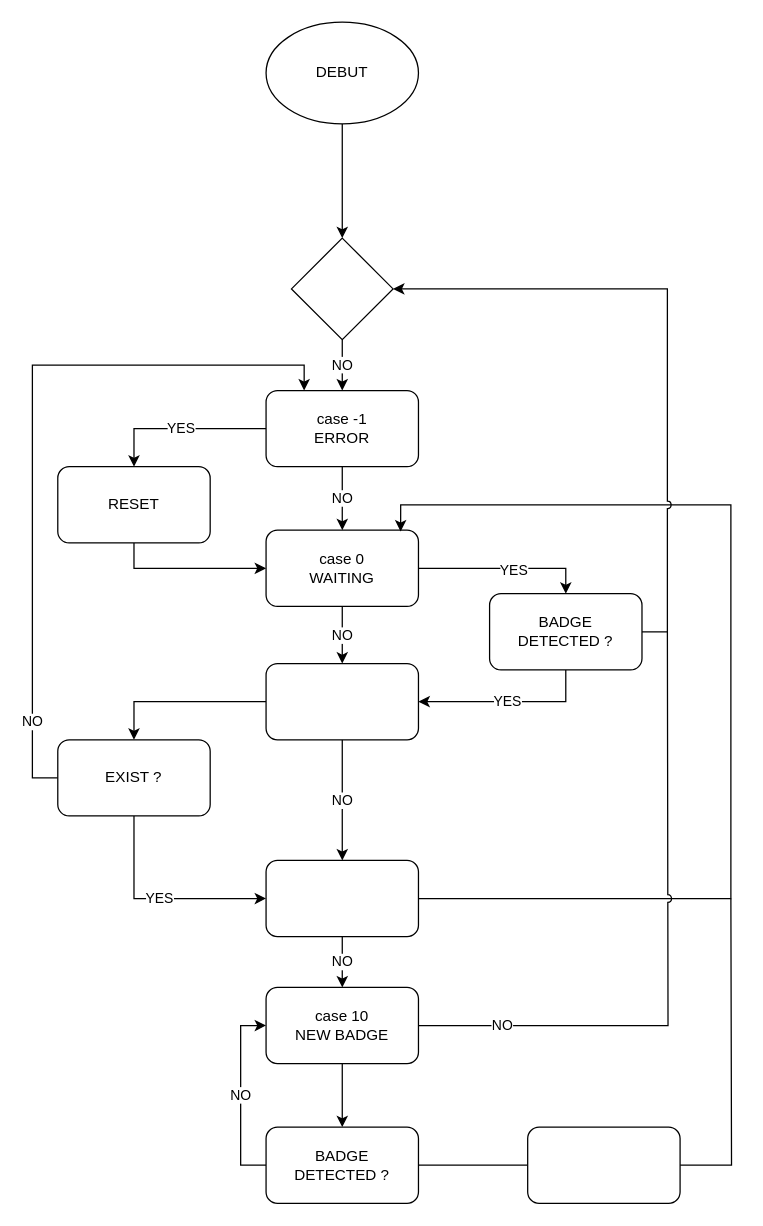
Some shapes in this 763 by 1226 pixel diagram are drawn without their labels. The shapes that lost their labels are listed below. From the top down, each one's box as (x1, y1, x2, y2) in pixels, then its label:
(290, 237, 393, 340): Switch
(265, 662, 418, 740): case 1 TREATMENT
(265, 859, 418, 937): case 2 ACCES GRANTED
(526, 1126, 680, 1203): APPEND DATA IN ARRAY
